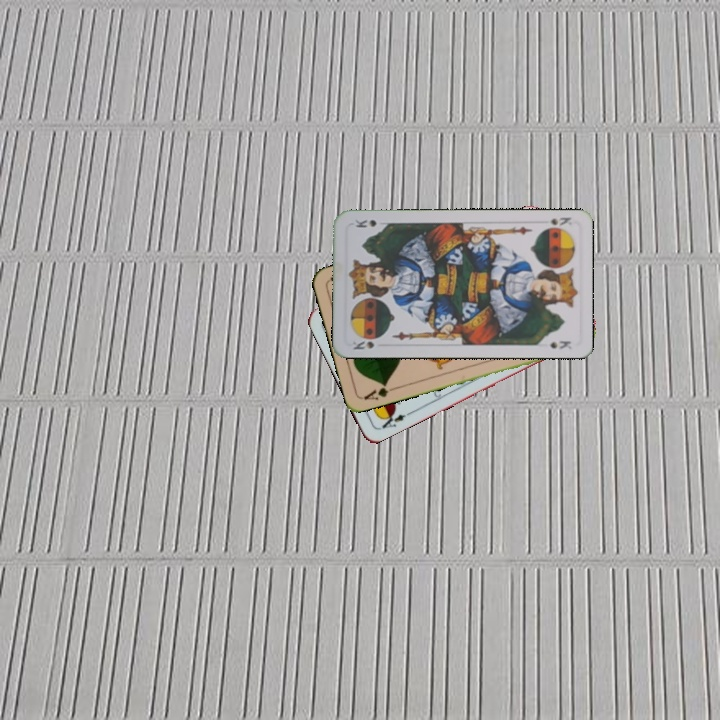EA: (376, 407, 413, 431)
GA: (360, 379, 399, 403)
SK: (538, 213, 574, 232), (348, 337, 377, 352)
